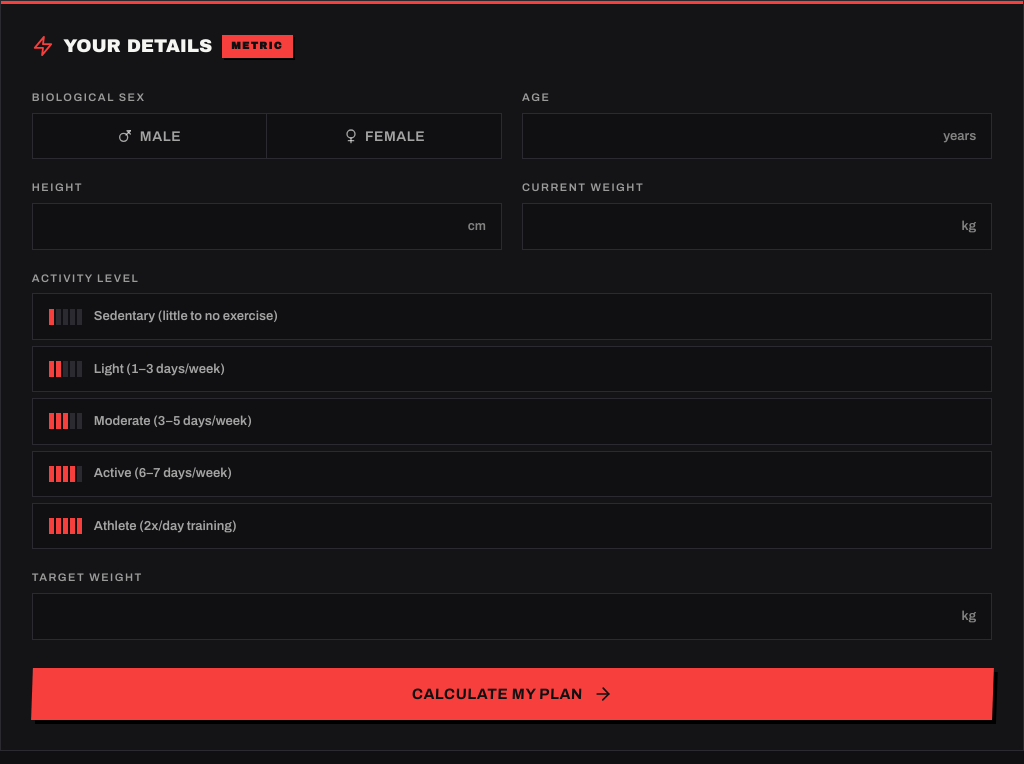
Test: UserForm › validation › shows errors for all required fields when submitting empty form
This screenshot has width=1024, height=764.
Click the button "Calculate My Plan" at [512, 694], box [31, 668, 993, 720]
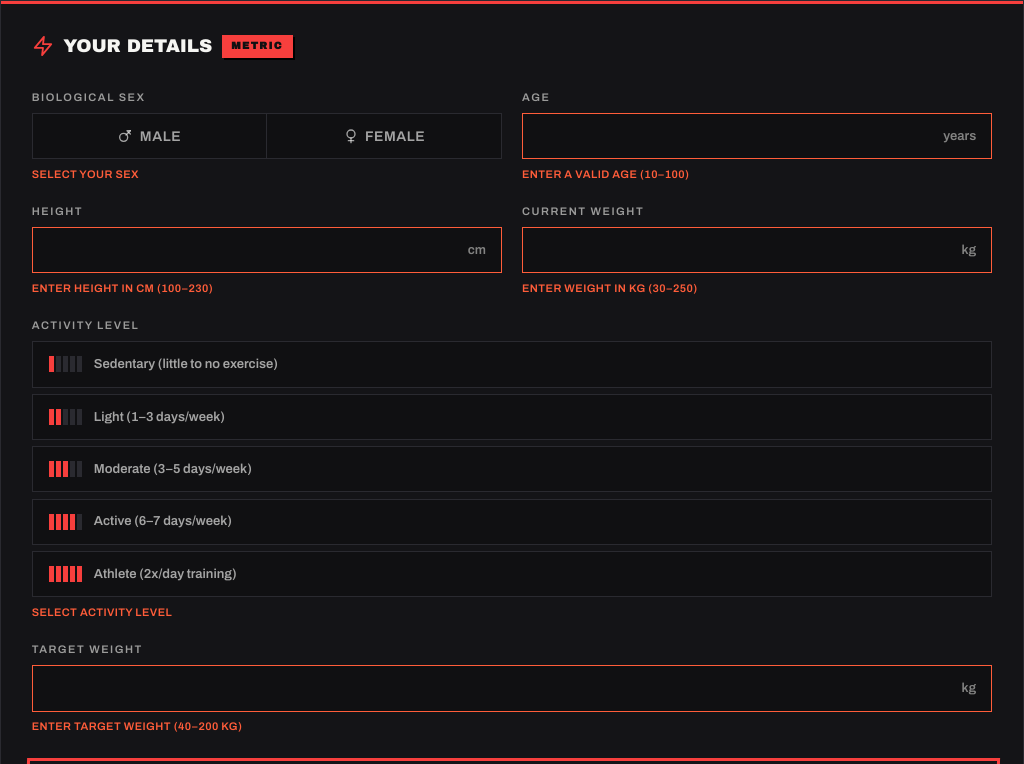
Check: the text "Select your sex" is shown, box [32, 168, 139, 180]
Check: the text "Enter a valid age (10–100)" is shown, box [522, 168, 689, 180]
Check: the text "Enter height in cm (100–230)" is shown, box [32, 282, 213, 294]
